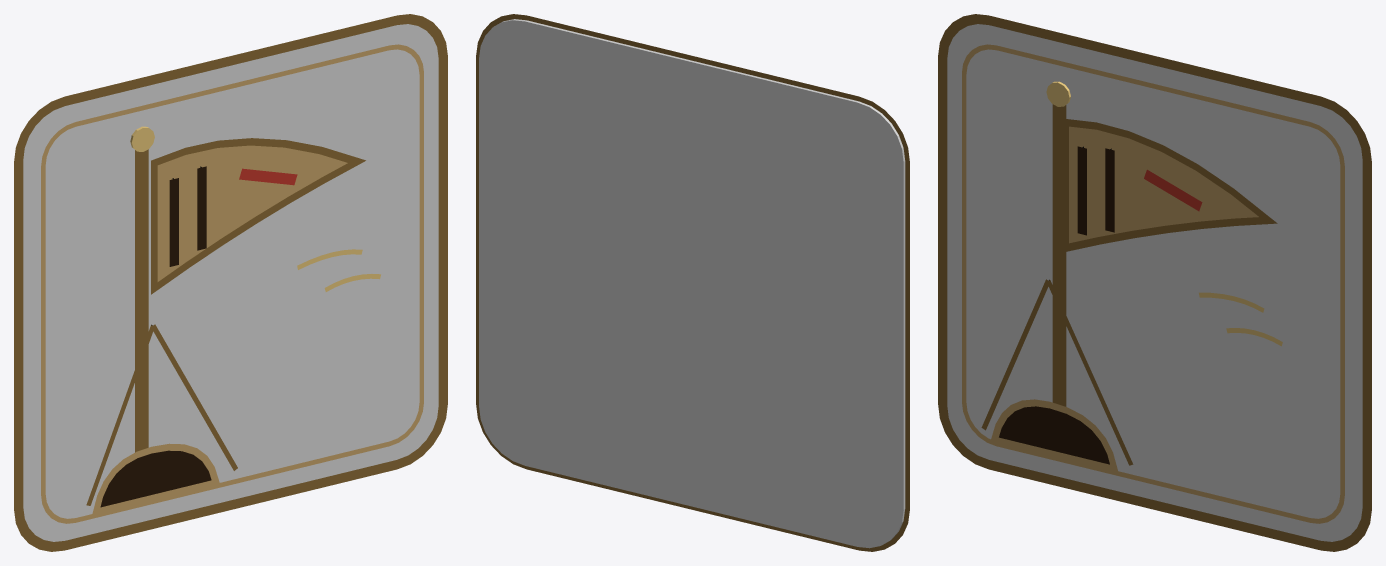
The model's file is obj-znamya-dozora.glb.
The picture shows the model from 3 angles, left to right: view 1: azimuth 30°, elevation 25°; view 2: azimuth 150°, elevation 25°; view 3: azimuth 330°, elevation 25°; orthographic projection.
Parts seen in each view (by area): view 1: obj-znamya-dozora; view 2: obj-znamya-dozora; view 3: obj-znamya-dozora.
Part boxes in pixels (x1=…): obj-znamya-dozora: x1=14, y1=14, x2=447, y2=551; obj-znamya-dozora: x1=476, y1=14, x2=909, y2=551; obj-znamya-dozora: x1=938, y1=14, x2=1371, y2=551.
Bounding box in the file's own units: 0.3917 × 0.3917 × 0.0251.
